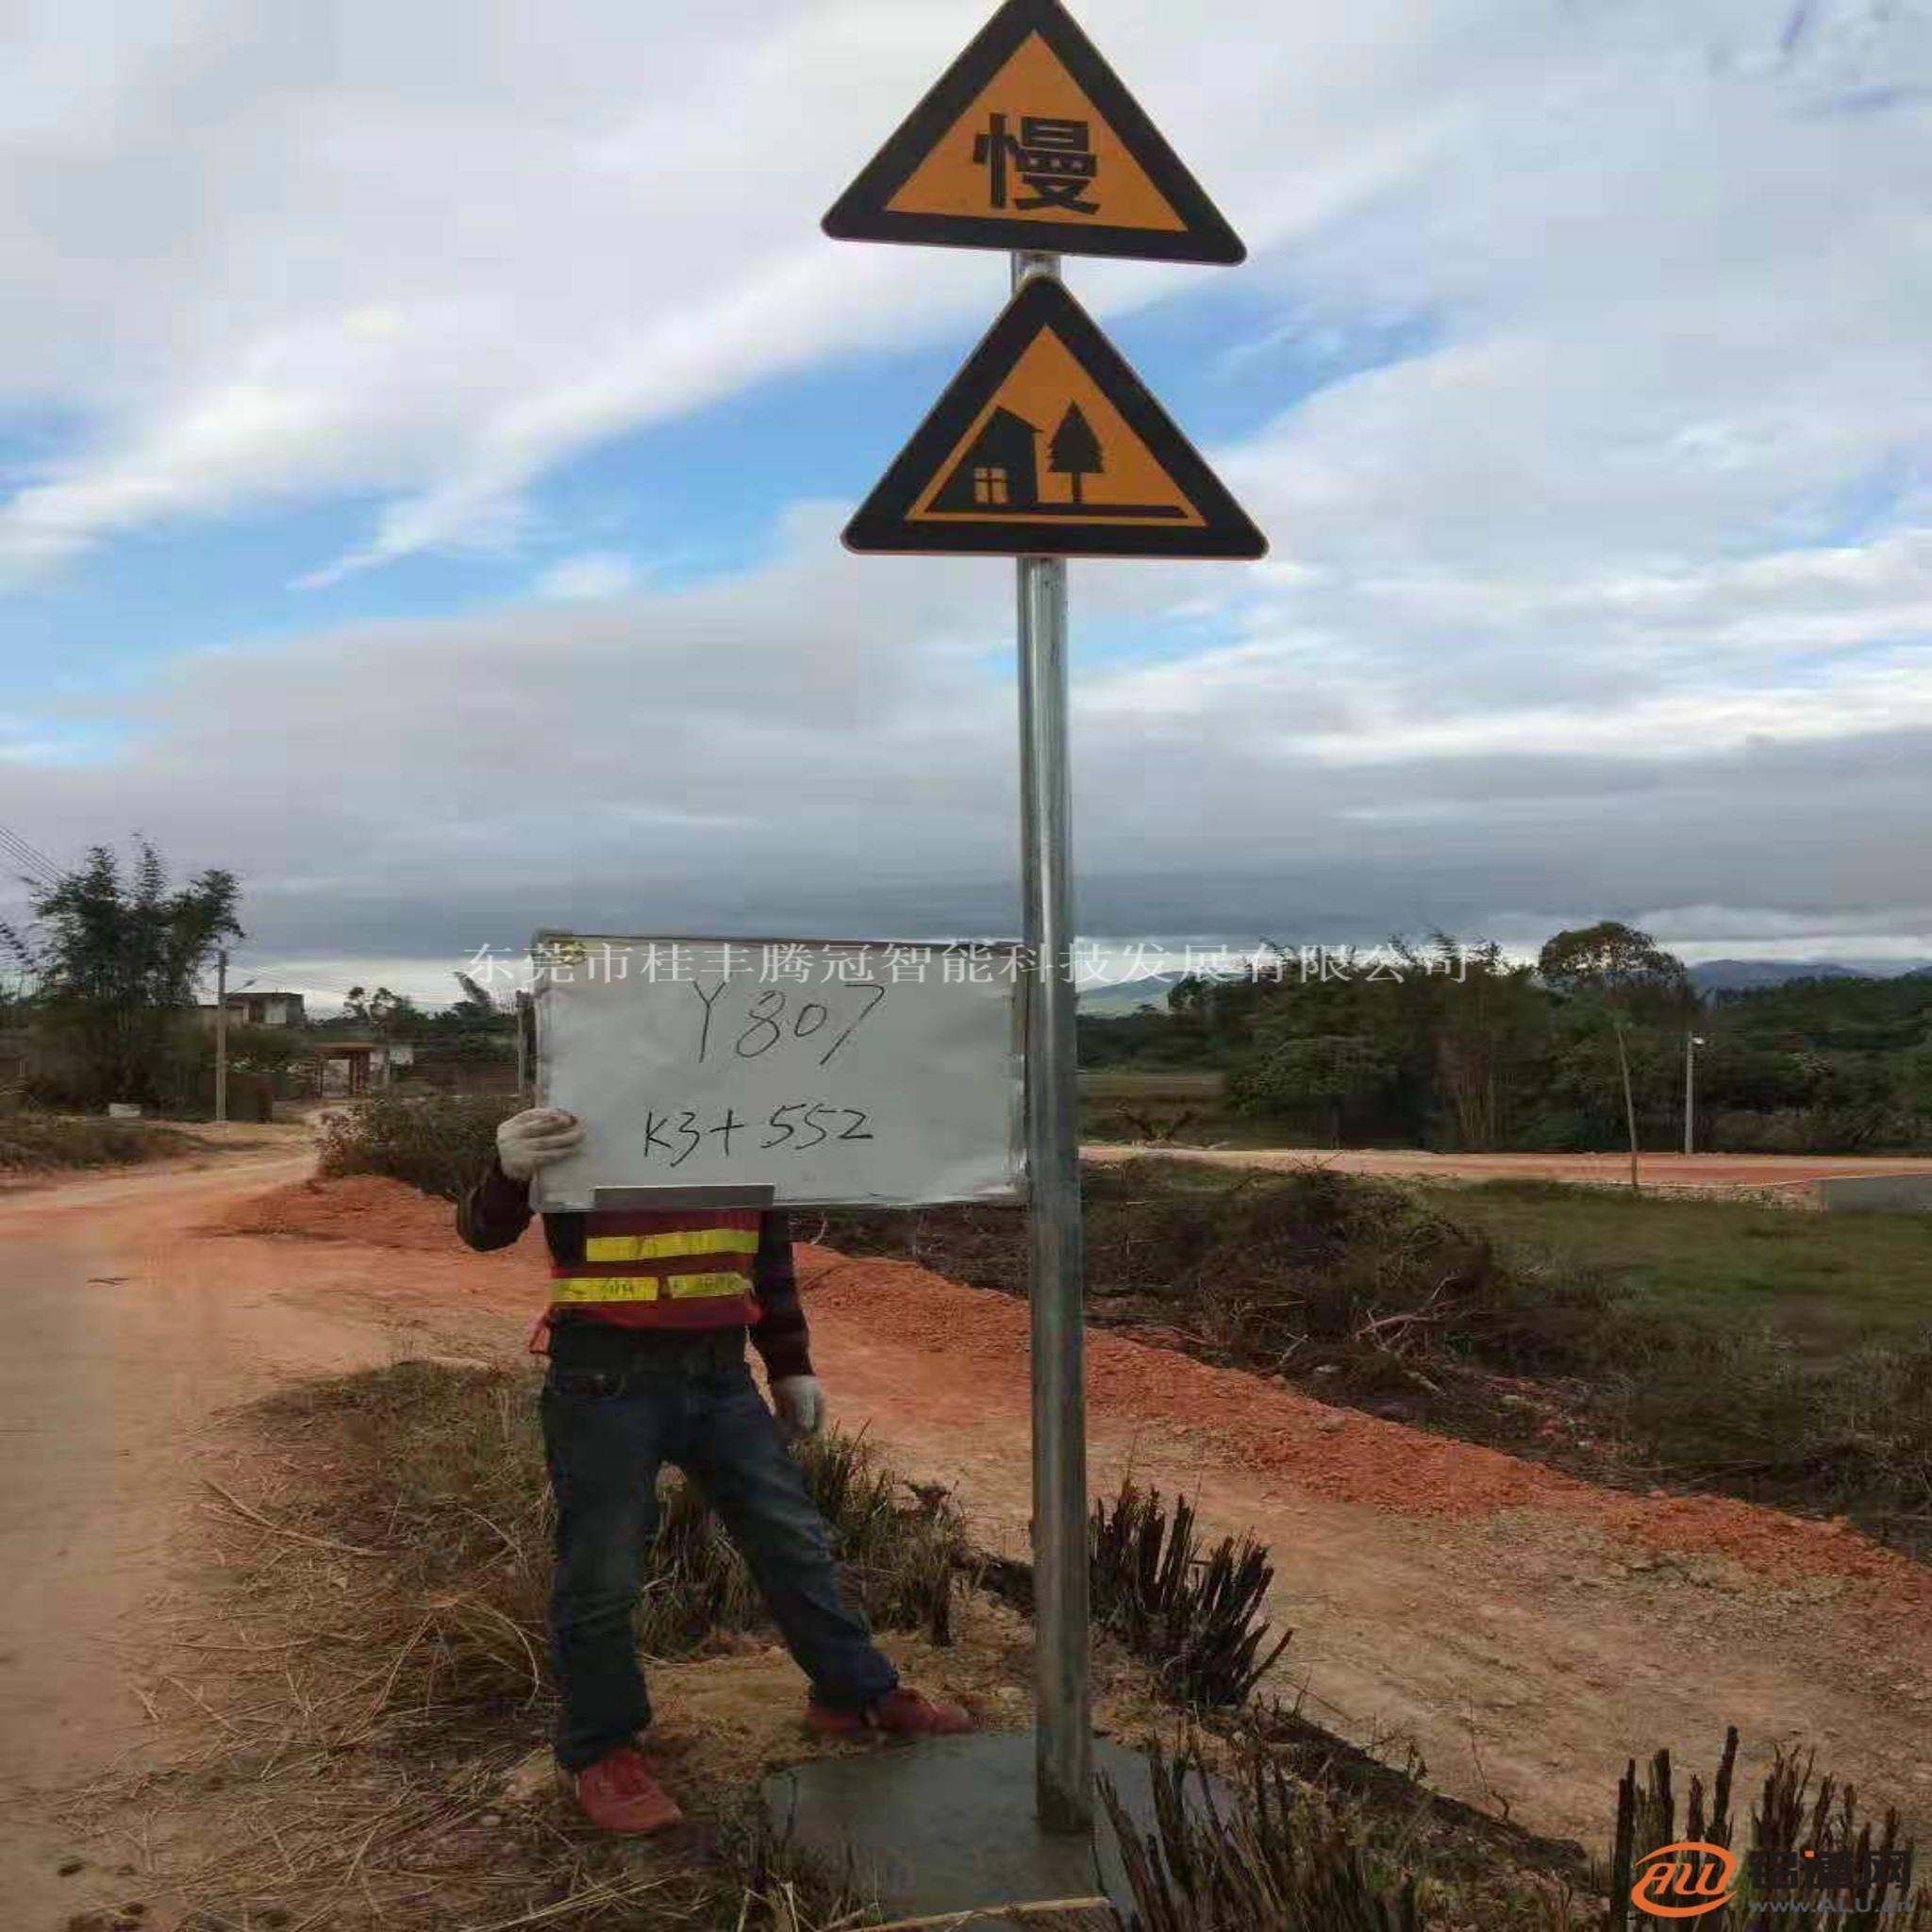w3: (835, 278, 1272, 563)
w30: (823, 2, 1247, 272)
